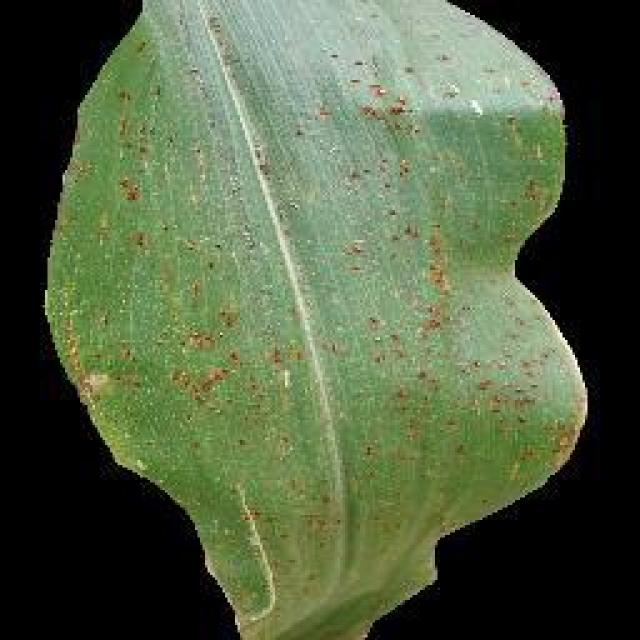Corn Common Rust: (107, 40, 583, 510)
